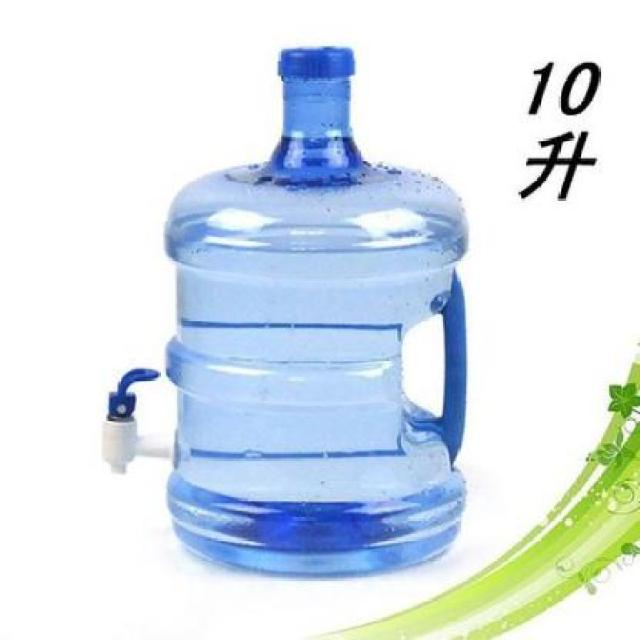coolerbottle: (157, 43, 476, 585)
